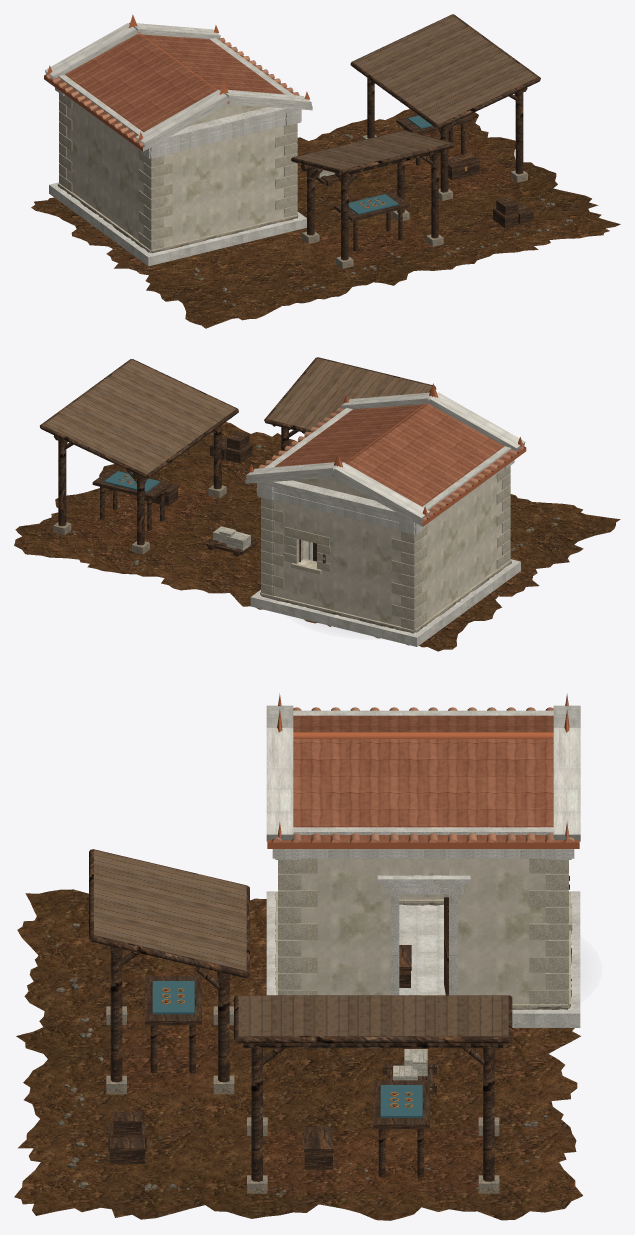
Rendered from jeweler.glb.
3 views of the same model, one above another, from view 1: azimuth 30°, elevation 25°; view 2: azimuth 150°, elevation 25°; view 3: azimuth 270°, elevation 25° (orthographic). The views are drawn at different scales.
Visible parts, largest first — view 1: part_1, part_6, part_10, part_8, part_17, part_7, part_5, part_9, part_4, part_19, part_18, part_14 (+1 smaller); view 2: part_1, part_6, part_10, part_8, part_17, part_5, part_7, part_9, part_4, part_19, part_18, part_16 (+1 smaller); view 3: part_1, part_17, part_8, part_10, part_6, part_7, part_9, part_5, part_18, part_14, part_4, part_19 (+2 smaller).
Part boxes in pixels (x1,y1,x2,y2): part_1: (31,109,620,328); part_6: (60,101,296,246); part_10: (293,14,537,169); part_8: (45,22,312,266); part_17: (44,34,311,147); part_7: (291,14,540,260); part_5: (58,93,298,253); part_9: (312,128,515,265); part_4: (57,126,527,268); part_19: (44,38,311,146); part_18: (44,14,309,151); part_14: (348,115,460,214); part_1: (14,422,620,651); part_6: (262,474,508,626); part_10: (42,358,431,474); part_8: (245,392,525,646); part_17: (246,404,525,522); part_5: (260,466,511,633); part_7: (40,357,436,563); part_9: (66,483,217,549); part_4: (53,485,511,633); part_19: (246,408,525,521); part_18: (248,383,526,526); part_16: (213,526,250,550); part_1: (14,889,582,1220); part_17: (267,715,579,842); part_8: (266,705,580,1027); part_10: (94,850,508,1036); part_6: (279,858,567,1003); part_7: (89,849,569,1181); part_9: (122,1021,482,1193); part_5: (276,858,572,1008); part_18: (267,693,579,848); part_14: (152,981,422,1117); part_4: (106,894,571,1193); part_19: (272,707,574,842).
Bounding box in the file's own units: 9.13 × 3.34 × 7.03.
20 materials, 14 textured.
